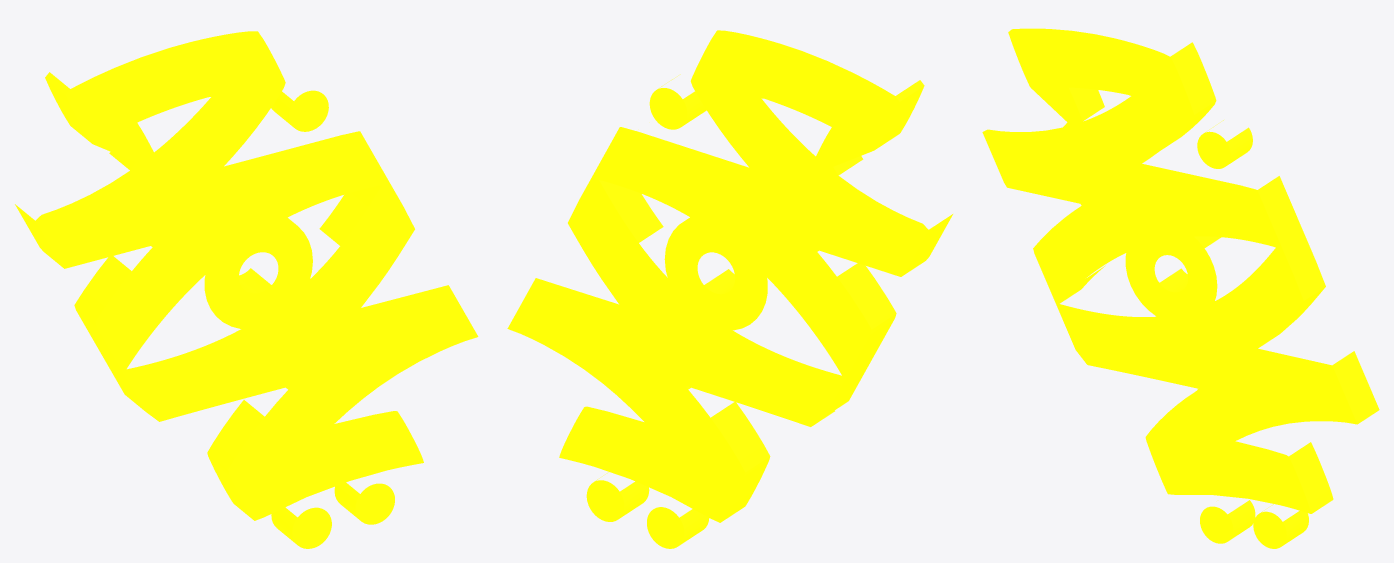
Rendered from mark.glb.
3 renders of one model, left to right at view 1: azimuth 30°, elevation 25°; view 2: azimuth 150°, elevation 25°; view 3: azimuth 330°, elevation 25°, orthographic. The views are drawn at different scales.
Visible parts, largest first — view 1: DjarriMark; view 2: DjarriMark; view 3: DjarriMark.
Part boxes in pixels (x1,y1,x2,y2): DjarriMark: (15,31,478,548); DjarriMark: (507,30,952,548); DjarriMark: (982,28,1379,548).
Size of the model in its own units: 0.85 by 1 by 0.1187.
